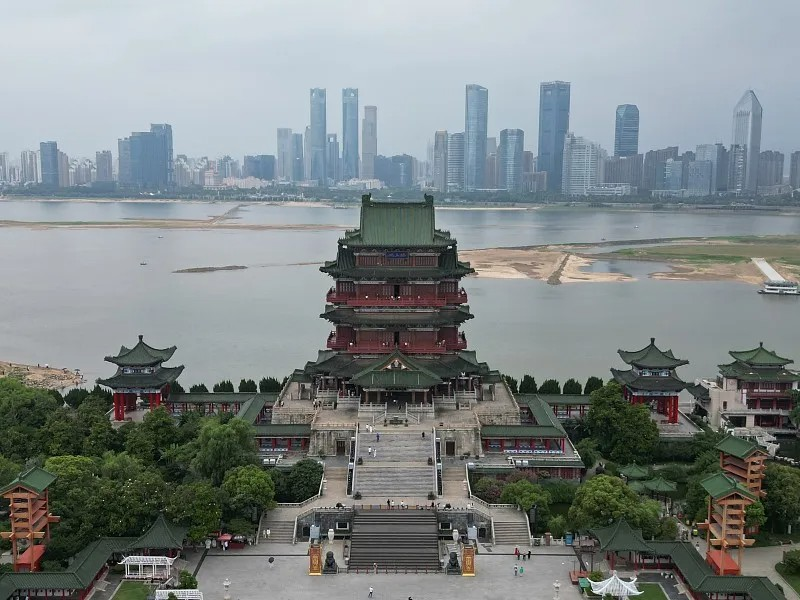Teng: (290, 193, 502, 407)
